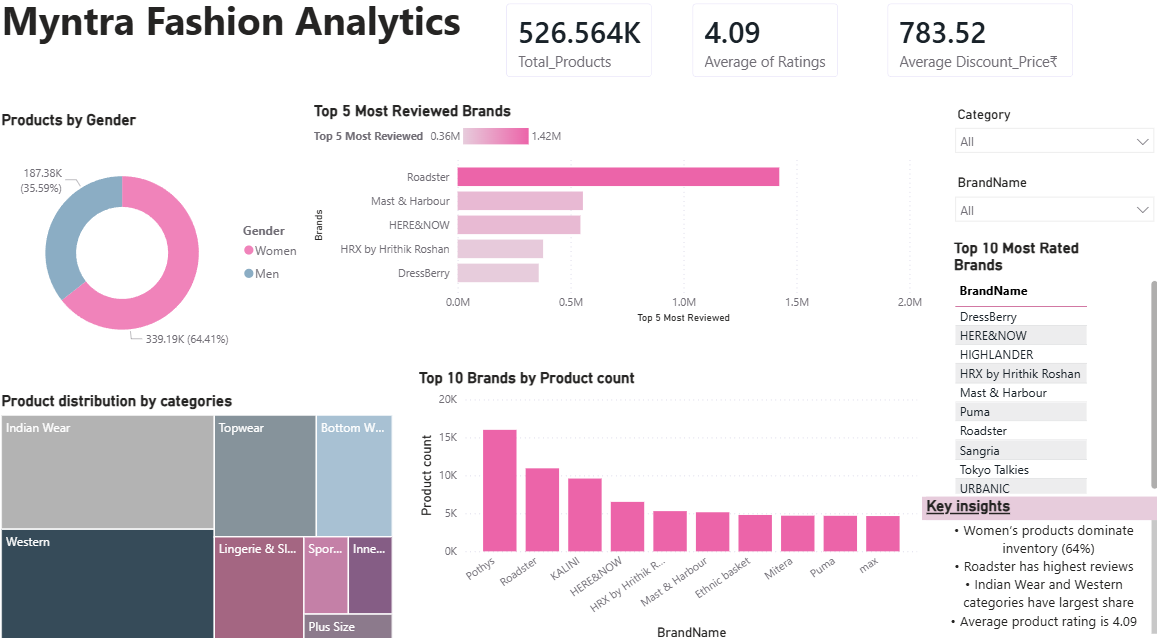

The page's visual inventory and layout, read from the dashboard file:
{"tool":"powerbi","page":{"name":"Page 1","canvas":[1280,720],"ordinal":0},"visuals":[{"type":"treemap","title":"Product distribution by categories","fields":{"Group":["Myntra_cleaned.Category"],"Values":["CountNonNull(Myntra_cleaned.BrandName)"]},"box":[0,443.2,439.1,277.2],"z":0},{"type":"donutChart","fields":{"Category":["Myntra_cleaned.category_by_Gender"],"Y":["CountNonNull(Myntra_cleaned.Product_id)"]},"box":[0,134.5,343.1,292.3],"z":1000},{"type":"cardVisual","fields":{"Data":["Count(Myntra_cleaned.Product_id)"]},"box":[542,0,194.9,115.3],"z":2000},{"type":"cardVisual","fields":{"Data":["Avg(Myntra_cleaned.Ratings)"]},"box":[746.5,0,194.9,115.3],"z":3000},{"type":"cardVisual","fields":{"Data":["Avg(Myntra_cleaned.DiscountPrice (in Rs))"]},"box":[960.6,0,238.8,115.3],"z":4000},{"type":"textbox","box":[0,0,526.9,85.1],"z":5000},{"type":"clusteredBarChart","title":"Top 5 Most Reviewed  Brands","fields":{"Y":["Sum(Myntra_cleaned.Reviews)"],"Category":["Myntra_cleaned.BrandName"]},"box":[343.1,124.9,677.9,248.4],"z":7000},{"type":"slicer","fields":{"Values":["Myntra_cleaned.Category"]},"box":[1041.5,124.9,238.8,75.5],"z":8000},{"type":"tableEx","title":"Top 10 Most Rated Brands","fields":{"Values":["Myntra_cleaned.BrandName"]},"box":[1045.6,274.4,234.6,285.4],"z":9000},{"type":"slicer","fields":{"Values":["Myntra_cleaned.BrandName"]},"box":[1041.5,200.3,238.8,79.6],"z":9002},{"type":"columnChart","title":"Top 10 Brands by Product count","fields":{"Category":["Myntra_cleaned.BrandName"],"Y":["CountNonNull(Myntra_cleaned.Product_id)"]},"box":[458.3,417.2,557.1,303.3],"z":9003},{"type":"textbox","title":"Key insights","box":[1015.4,558.5,264.8,161.9],"z":9004}]}

Visuals, with their boxes in screenshot pixels (x1, y1, x2, y2), scaled from the page's 1280x720 canvas onto the 1157x638 screenshot:
"Product distribution by categories" treemap: box=[0, 393, 397, 637]
donutChart - Myntra_cleaned.category_by_Gender x CountNonNull(Myntra_cleaned.Product_id): box=[0, 119, 310, 378]
cardVisual - Count(Myntra_cleaned.Product_id): box=[490, 0, 666, 102]
cardVisual - Avg(Myntra_cleaned.Ratings): box=[675, 0, 851, 102]
cardVisual - Avg(Myntra_cleaned.DiscountPrice (in Rs)): box=[868, 0, 1084, 102]
textbox: box=[0, 0, 476, 75]
"Top 5 Most Reviewed  Brands" clusteredBarChart: box=[310, 111, 923, 331]
slicer - Myntra_cleaned.Category: box=[941, 111, 1156, 178]
"Top 10 Most Rated Brands" tableEx: box=[945, 243, 1156, 496]
slicer - Myntra_cleaned.BrandName: box=[941, 177, 1156, 248]
"Top 10 Brands by Product count" columnChart: box=[414, 370, 918, 637]
"Key insights" textbox: box=[918, 495, 1156, 637]
